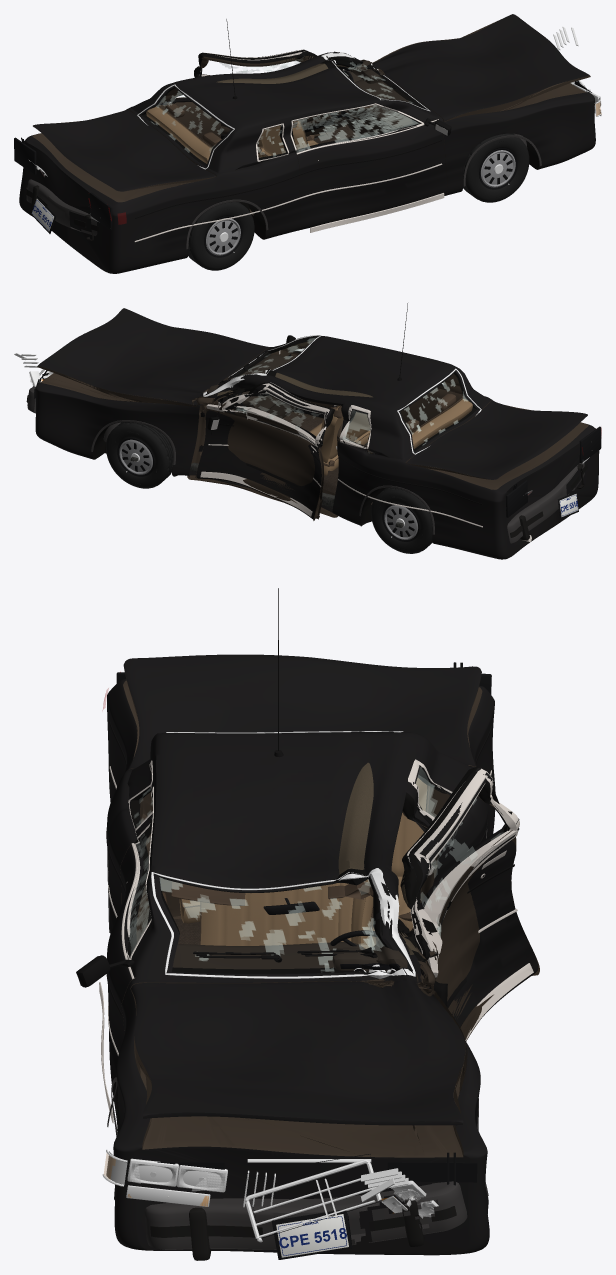
Rendered from coupe84_side_d2.glb.
The picture shows the model from 3 angles, top to bottom: view 1: azimuth 30°, elevation 25°; view 2: azimuth 150°, elevation 25°; view 3: azimuth 270°, elevation 25°; orthographic projection. The views are drawn at different scales.
Parts seen in each view (by area): view 1: Body, Hood, Door_FR, Trunk, Interior, Wheel_RR_mesh, Wheel_FR_mesh, Glass_FR, Trim_FR, Ends, Glass, Trim (+4 smaller); view 2: Body, Hood, Door_FL, Trunk, Interior, Wheel_FL_mesh, Wheel_RL_mesh, Trim_FL, Glass, Ends, Trim, Bumper_R (+3 smaller); view 3: Body, Hood, Trunk, Interior, Door_FL, Ends, Bumper_F, Glass, Trim_FL, Door_FR, Trim, Trim_FR (+3 smaller).
Boxes of the visible parts, <box> form: Body: <box>19,51,595,273</box>; Hood: <box>370,14,590,121</box>; Door_FR: <box>290,103,447,229</box>; Trunk: <box>33,109,216,191</box>; Interior: <box>146,60,416,163</box>; Wheel_RR_mesh: <box>188,202,254,270</box>; Wheel_FR_mesh: <box>463,133,529,202</box>; Glass_FR: <box>290,103,420,154</box>; Trim_FR: <box>290,103,451,232</box>; Ends: <box>14,27,601,233</box>; Glass: <box>137,52,430,169</box>; Trim: <box>134,19,541,249</box>; Body: <box>35,335,599,559</box>; Hood: <box>37,308,269,406</box>; Door_FL: <box>195,382,334,520</box>; Trunk: <box>406,400,587,479</box>; Interior: <box>207,354,472,475</box>; Wheel_FL_mesh: <box>106,422,173,488</box>; Wheel_RL_mesh: <box>371,488,432,553</box>; Trim_FL: <box>200,382,329,516</box>; Glass: <box>203,335,481,454</box>; Ends: <box>14,353,601,519</box>; Trim: <box>91,303,482,534</box>; Bumper_R: <box>507,462,587,543</box>; Body: <box>107,679,495,1255</box>; Hood: <box>131,978,465,1125</box>; Trunk: <box>123,654,481,769</box>; Interior: <box>171,778,429,972</box>; Door_FL: <box>400,767,539,1041</box>; Ends: <box>102,662,491,1259</box>; Bumper_F: <box>144,1181,467,1260</box>; Glass: <box>128,731,437,978</box>; Trim_FL: <box>407,768,533,1040</box>; Door_FR: <box>107,786,154,1114</box>; Trim: <box>106,588,492,1199</box>; Trim_FR: <box>76,786,167,1123</box>.
Size of the model in its own units: 5.52 by 2.05 by 2.07.
34 materials, 5 textured.
